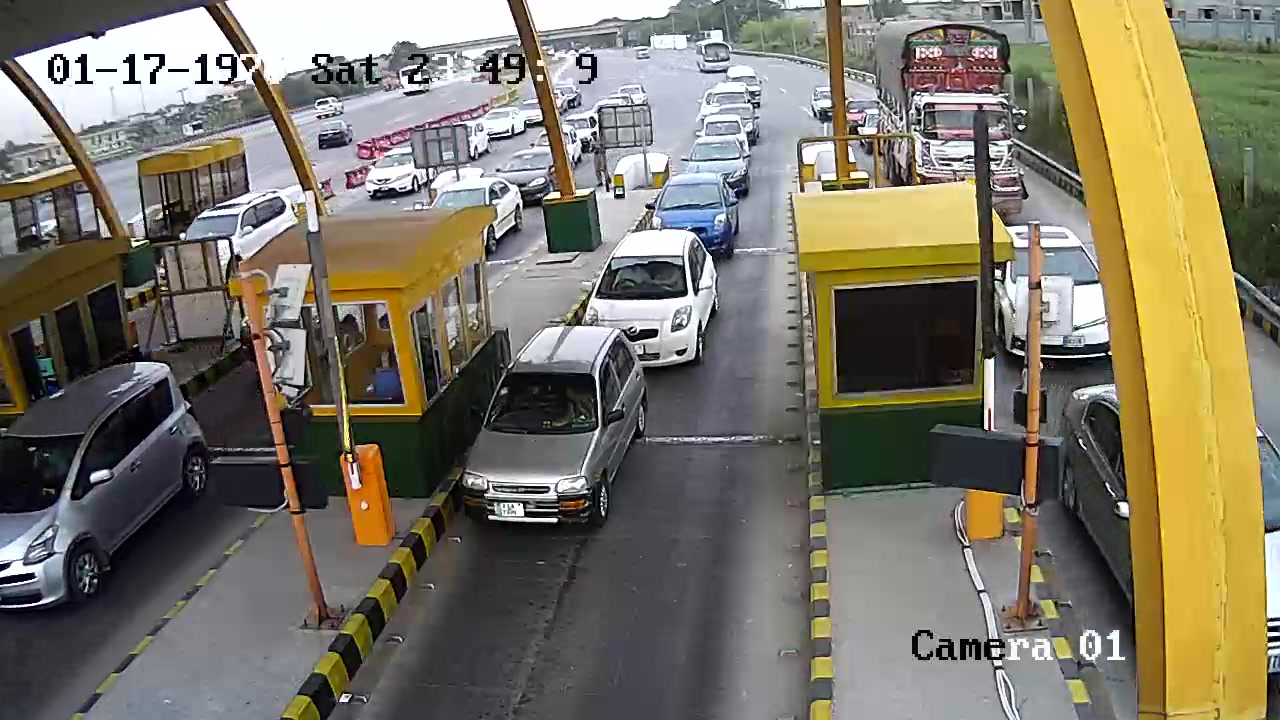F1: (455, 326, 648, 535), (576, 231, 725, 370)
